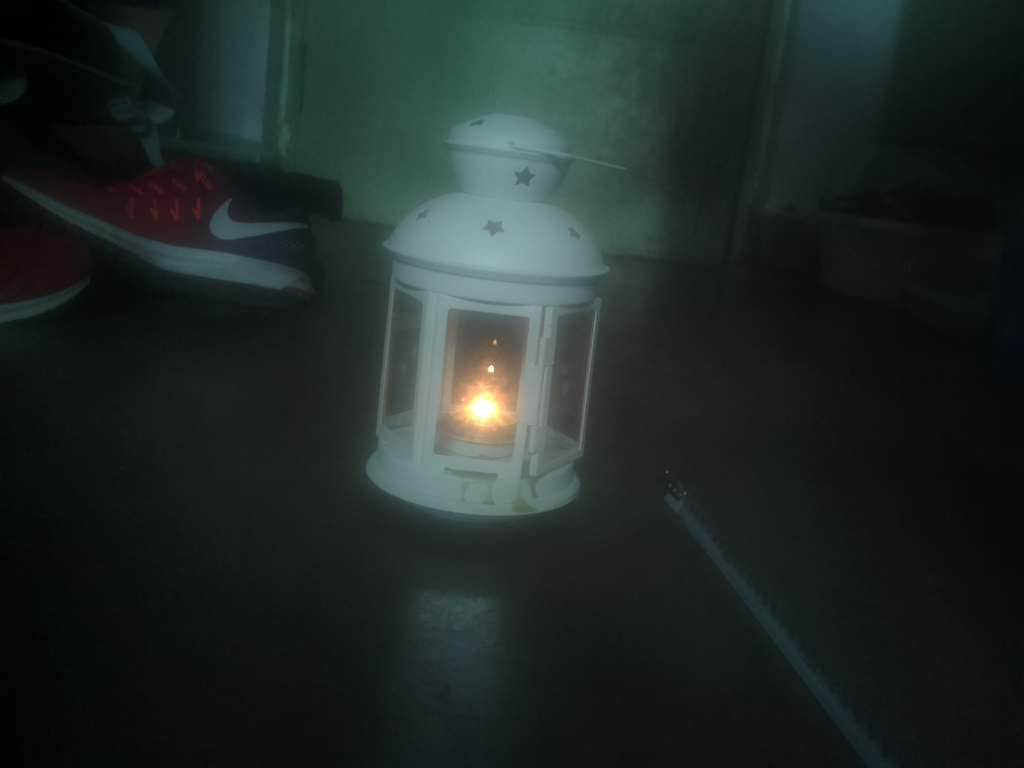fire: (419, 359, 536, 461)
